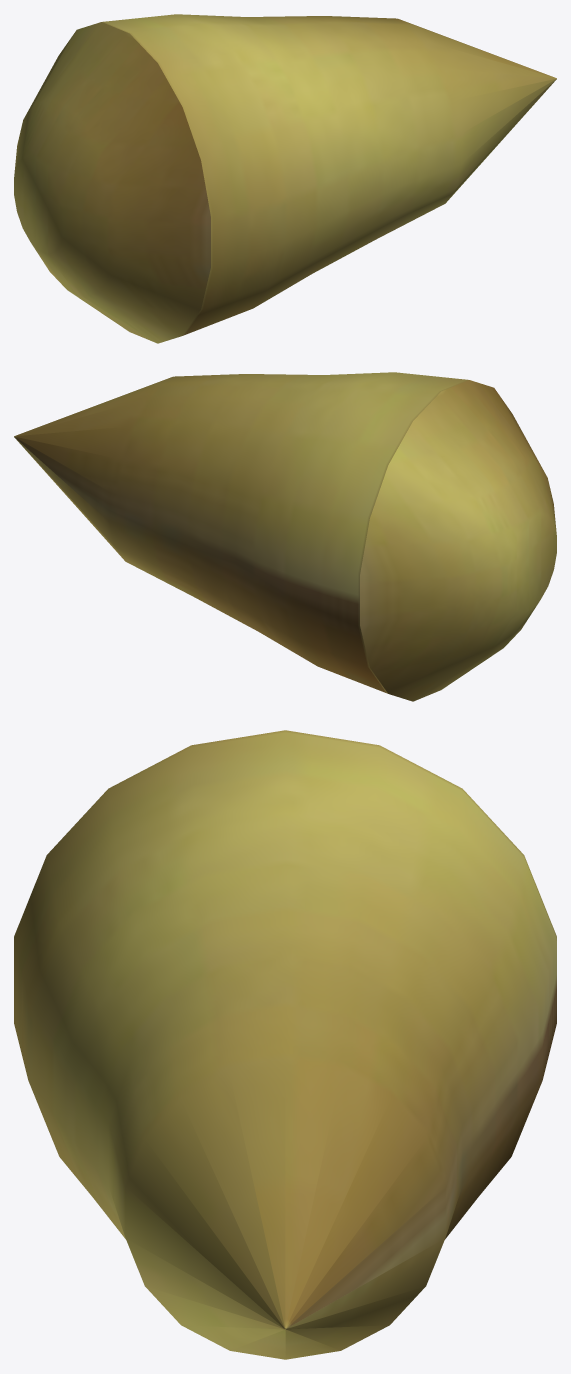
Rendered from bullet.FBX.
3 views of the same model, one above another, from view 1: azimuth 30°, elevation 25°; view 2: azimuth 150°, elevation 25°; view 3: azimuth 270°, elevation 25° (orthographic). The views are drawn at different scales.
Parts seen in each view (by area): view 1: Cylinder001; view 2: Cylinder001; view 3: Cylinder001.
Part boxes in pixels (x1,y1,x2,y2): Cylinder001: [14, 14, 556, 343]; Cylinder001: [14, 372, 556, 701]; Cylinder001: [14, 730, 556, 1359].
Size of the model in its own units: 72.78 by 40.1 by 39.49.
Materials: 1 (1 with a texture image).
